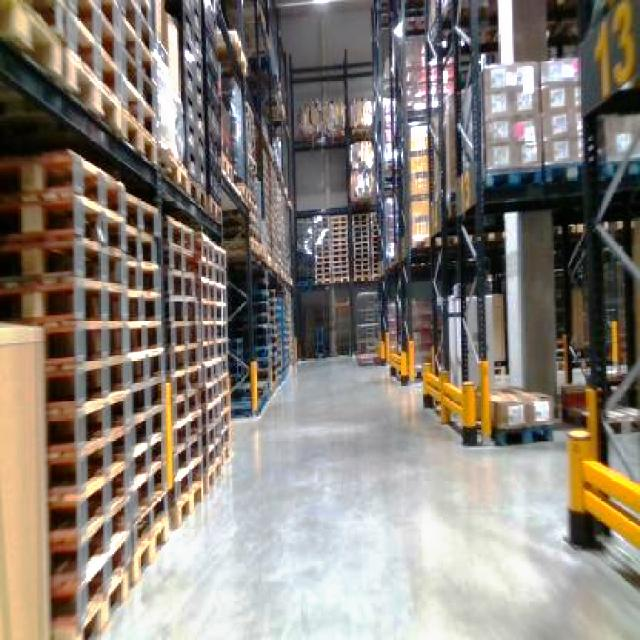ground: (58, 351, 638, 638)
pallet: (369, 0, 638, 638), (566, 0, 638, 638), (565, 383, 638, 638), (304, 194, 386, 286)
